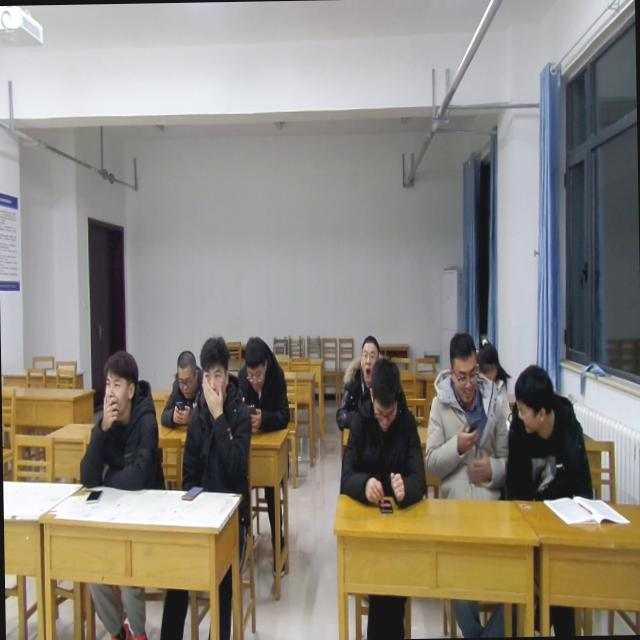bow: (235, 334, 291, 436), (159, 347, 205, 431)
down: (444, 330, 480, 408), (366, 355, 402, 432), (240, 330, 270, 390), (172, 344, 199, 396), (478, 329, 500, 382)
lookup: (100, 349, 140, 418), (196, 329, 232, 404), (356, 329, 380, 384)
sit: (424, 332, 509, 504), (336, 356, 428, 508), (175, 331, 255, 498), (76, 346, 166, 492), (503, 361, 594, 503), (334, 332, 386, 431), (476, 333, 514, 426)
